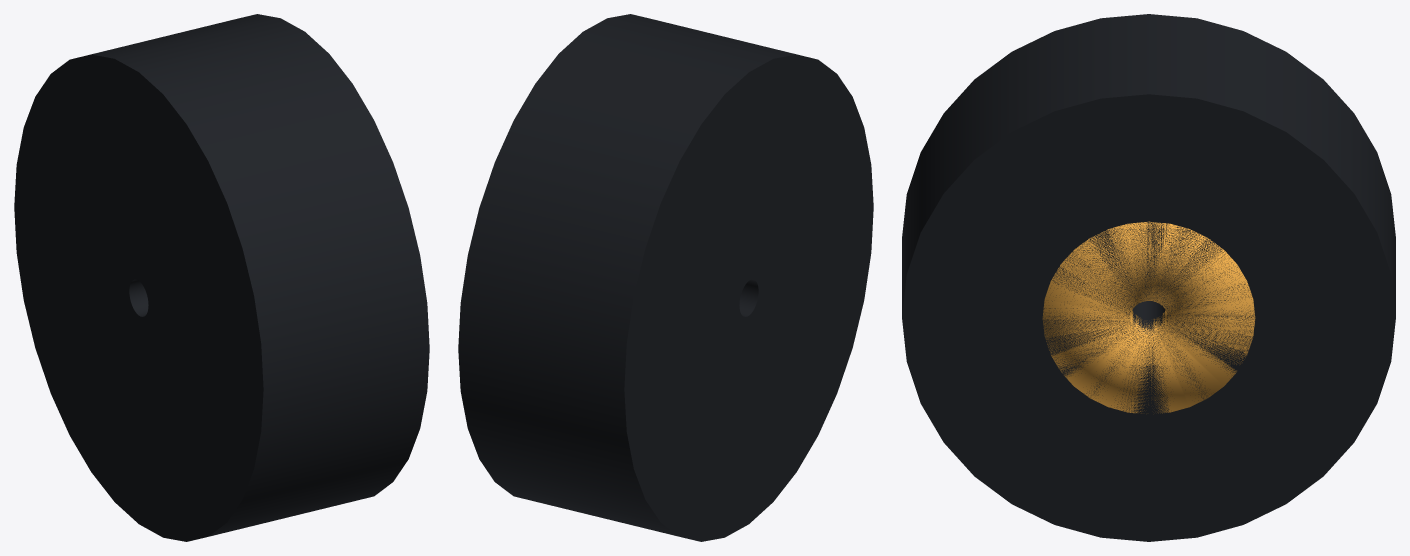
File: wheel.glb
3 renders of one model, left to right at view 1: azimuth 30°, elevation 25°; view 2: azimuth 150°, elevation 25°; view 3: azimuth 270°, elevation 25°, orthographic.
Visible parts, largest first — view 1: wheel_tire; view 2: wheel_tire; view 3: wheel_tire, wheel_rim.
Part boxes in pixels (x1=…): wheel_tire: x1=14, y1=14, x2=429, y2=541; wheel_tire: x1=458, y1=14, x2=873, y2=541; wheel_tire: x1=902, y1=14, x2=1395, y2=541; wheel_rim: x1=1042, y1=221, x2=1255, y2=413.
Size of the model in its own units: 0.025 by 0.065 by 0.065.
